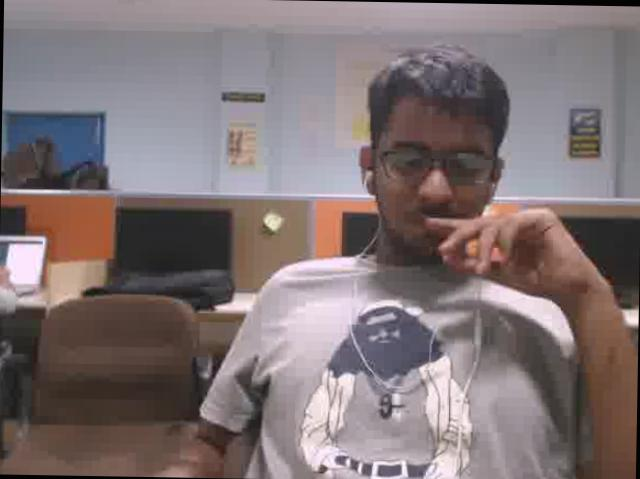bingung: (376, 97, 497, 252)
